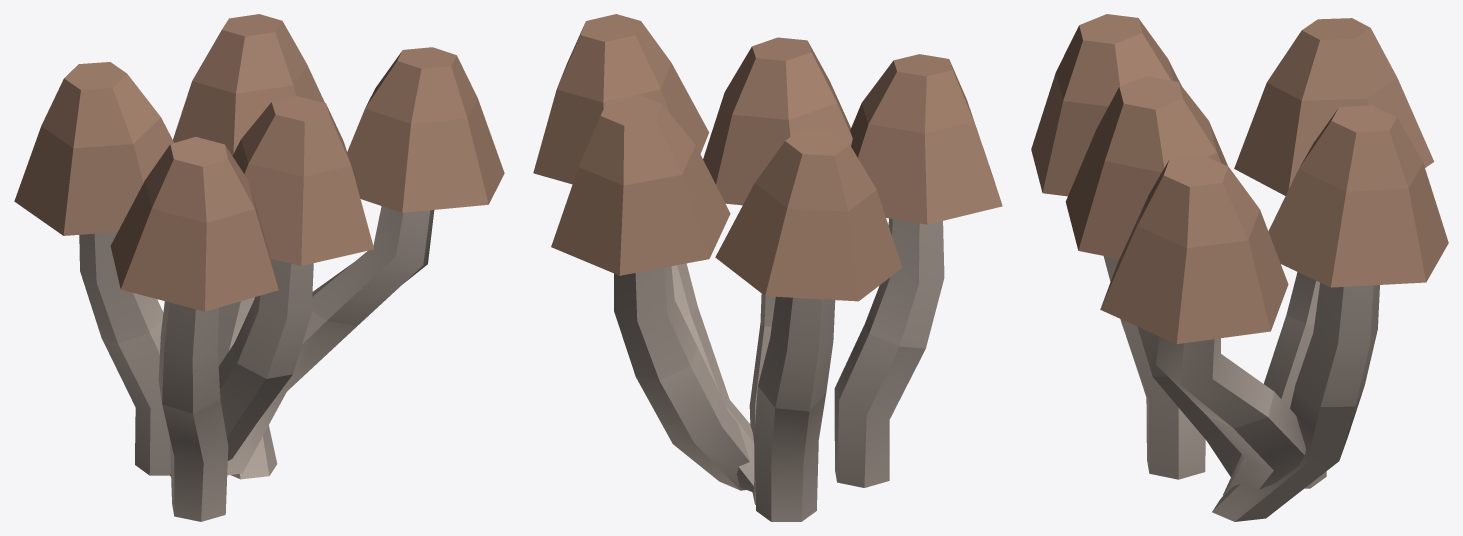
Rendered from Mushroom2_v01.fbx.
3 views of the same model, side by side, from view 1: azimuth 30°, elevation 25°; view 2: azimuth 150°, elevation 25°; view 3: azimuth 270°, elevation 25° (orthographic). The views are drawn at different scales.
Parts seen in each view (by area): view 1: Cylinder.004; view 2: Cylinder.004; view 3: Cylinder.004.
Part boxes in pixels (box(x1,y1,x2,y2)): Cylinder.004: box(14, 14, 504, 521); Cylinder.004: box(533, 14, 1002, 521); Cylinder.004: box(1031, 14, 1448, 521).
Size of the model in its own units: 53.58 by 48.14 by 43.01.
